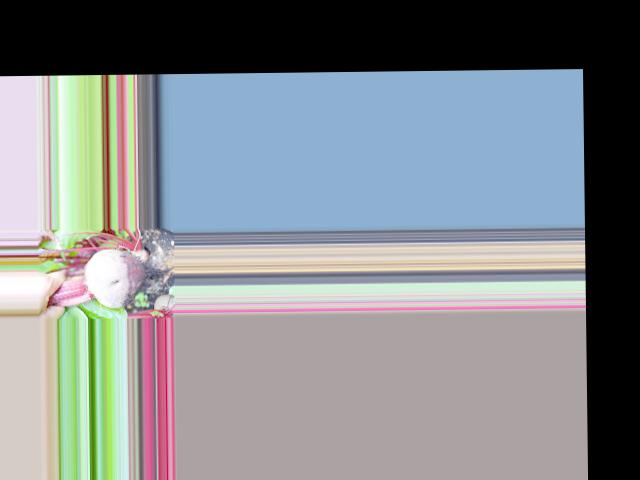beet: (46, 247, 175, 308)
